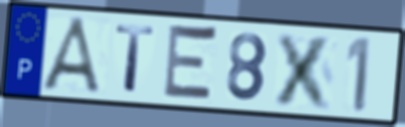1: (344, 35, 372, 116)
8: (226, 31, 270, 103)
A: (38, 15, 107, 97)
E: (160, 20, 221, 106)
T: (113, 23, 157, 95)
X: (270, 30, 337, 112)
